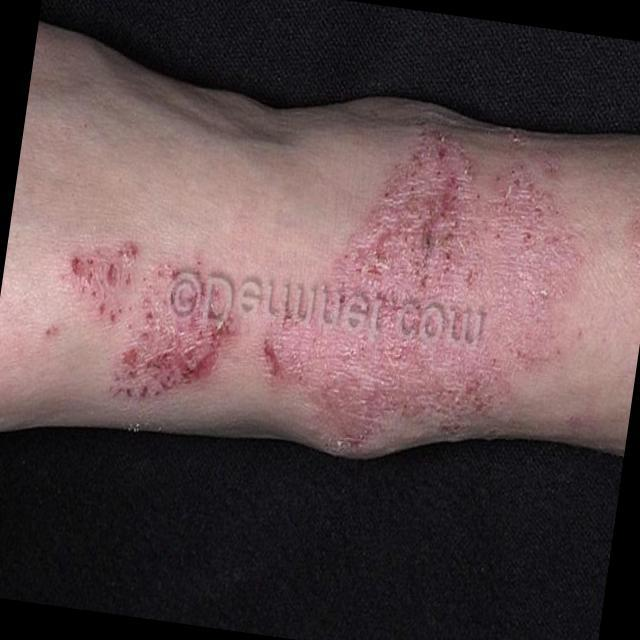Eczema: (74, 131, 576, 439)
